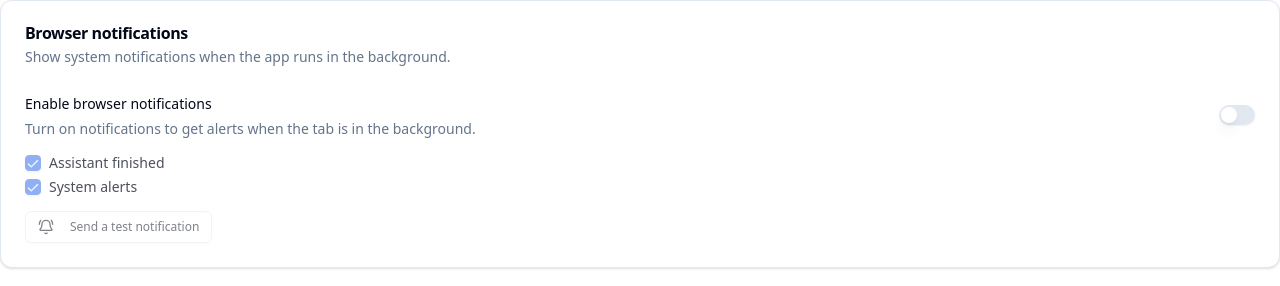
Scenario: BrowserNotificationsCard › enables only after permission resolves granted
Click the switch. click: (1237, 115)
box: [1219,105,1255,125]
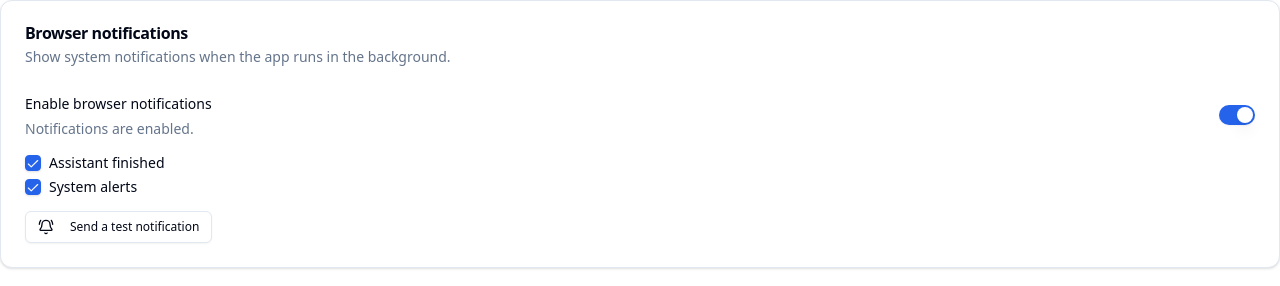
Expected: the text "Notifications are enabled." is shown, [25,119,212,139]
